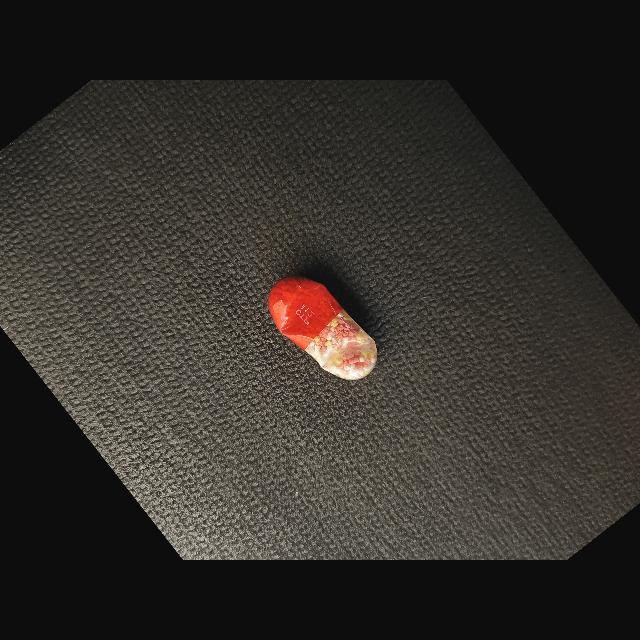Defective Capsule: (268, 276, 378, 380)
